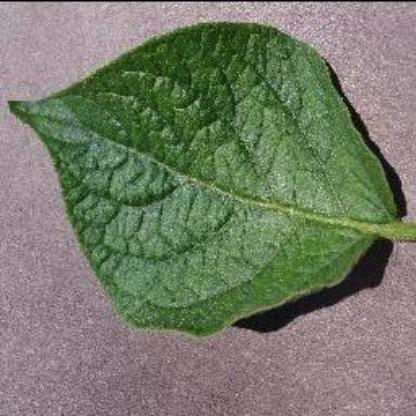Healthy-plant: (7, 16, 415, 340)
